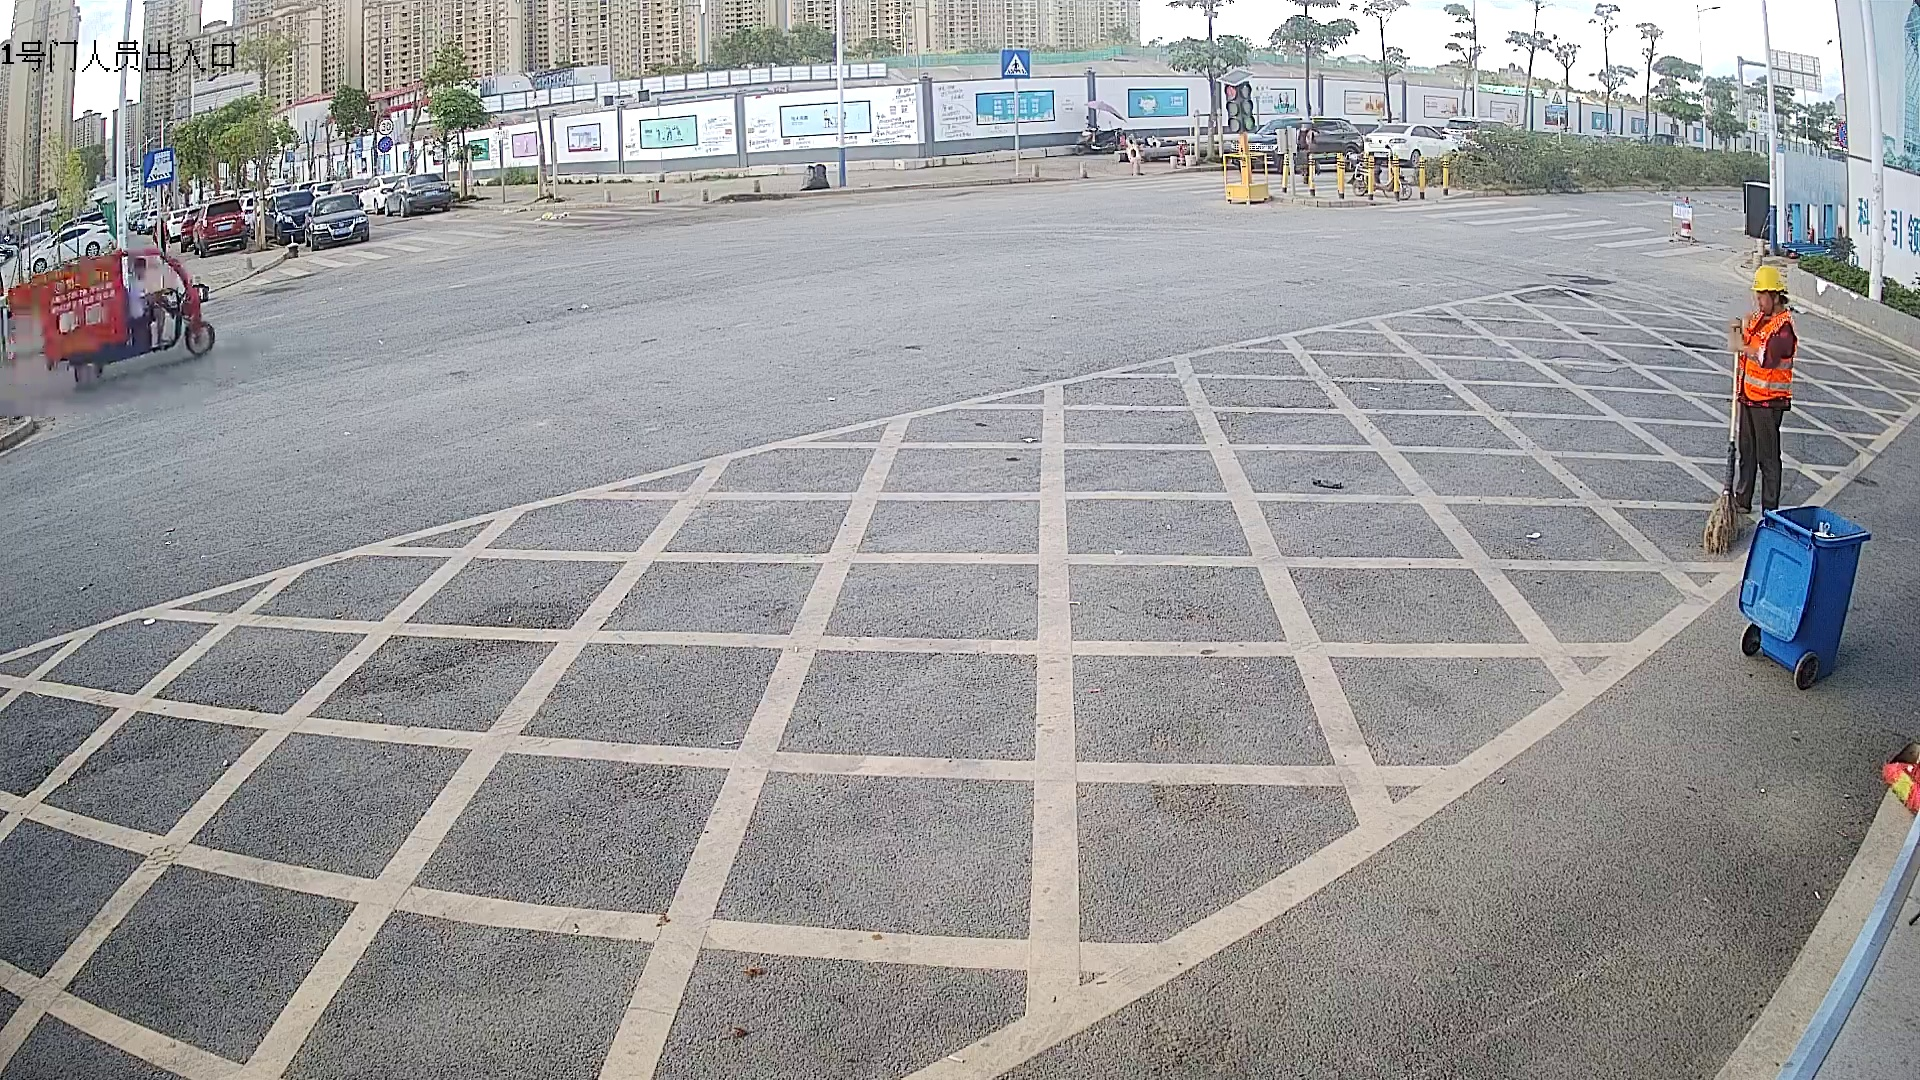person: (1732, 257, 1801, 519)
reflective_vest: (1735, 309, 1799, 402)
safety_helmet: (1749, 260, 1788, 313)
